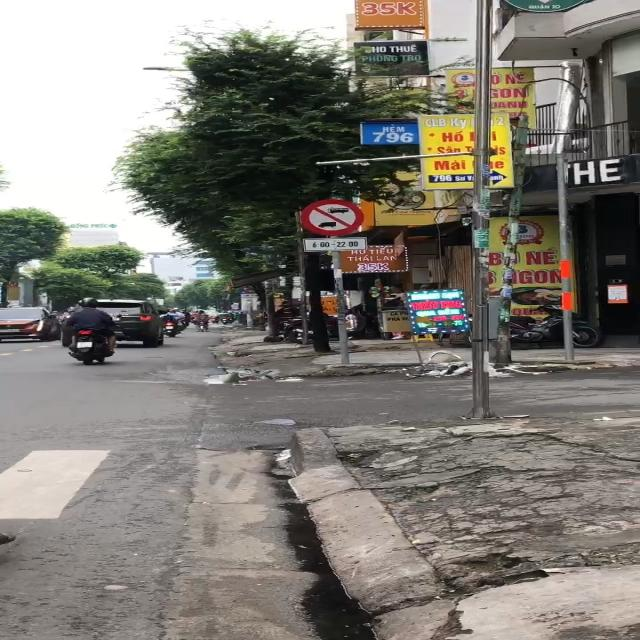Bien bao cam xe oto khach va xe oto tai: (291, 197, 366, 237)
